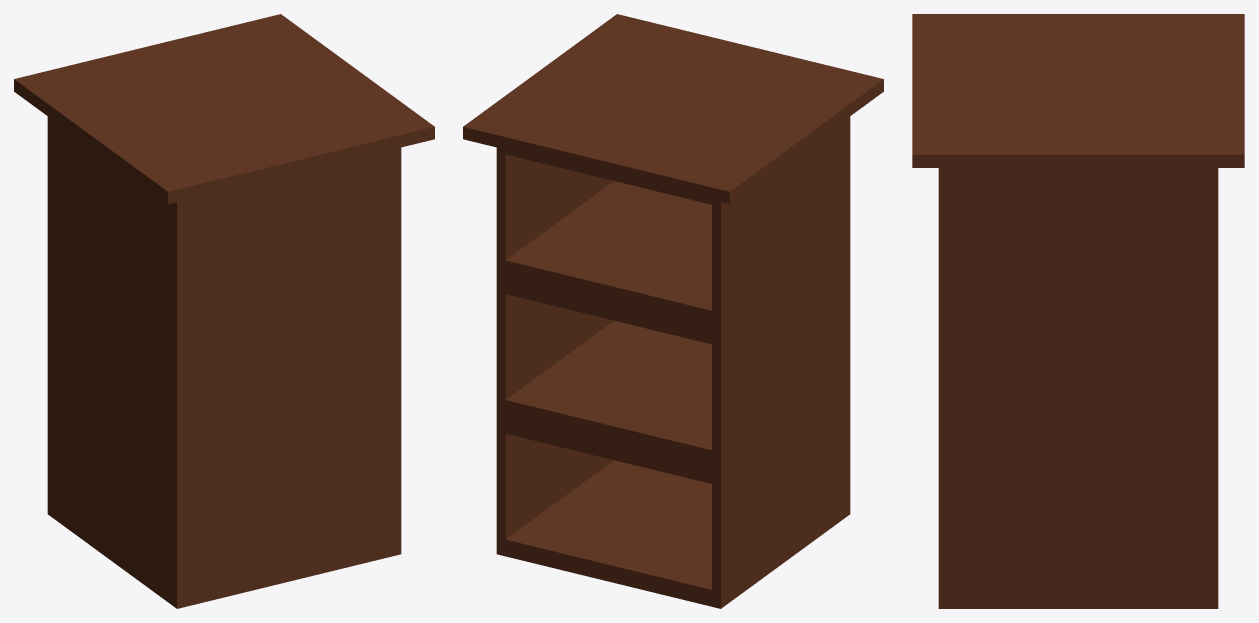
The model's file is szafka.fbx.
3 views of the same model, side by side, from view 1: azimuth 30°, elevation 25°; view 2: azimuth 150°, elevation 25°; view 3: azimuth 270°, elevation 25° (orthographic). The views are drawn at different scales.
Parts seen in each view (by area): view 1: Kostka; view 2: Kostka; view 3: Kostka.
Boxes of the visible parts, bbox=[...] form: Kostka: bbox=[14, 14, 434, 608]; Kostka: bbox=[463, 14, 883, 608]; Kostka: bbox=[912, 14, 1244, 608].
Size of the model in its own units: 2.38 by 3.68 by 2.38.
